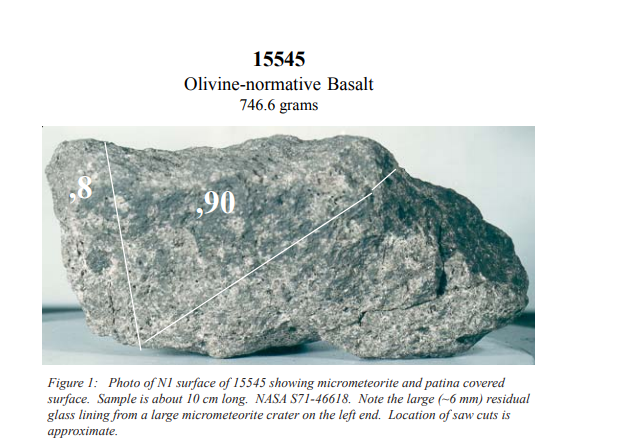Basalt: (60, 136, 527, 351), (180, 197, 437, 312)
